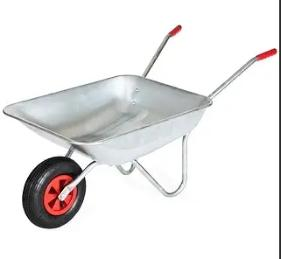BROUETTE: (2, 5, 281, 242)
